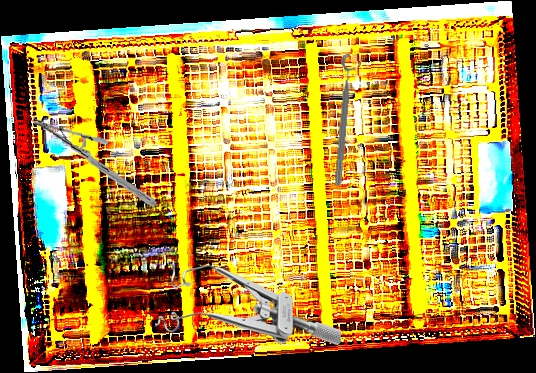Fixation Ring: (330, 53, 364, 187)
Needle Holder: (24, 116, 165, 208)
Speculum: (155, 263, 341, 345)
